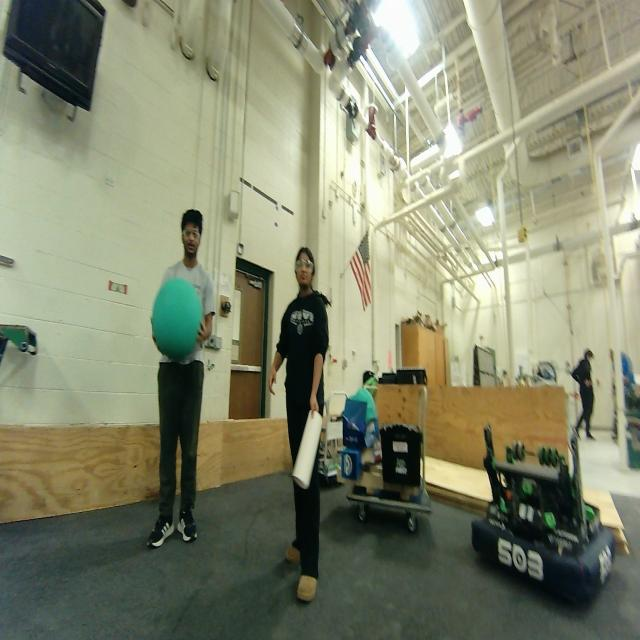algae: (148, 268, 209, 372)
coral: (290, 400, 326, 499)
